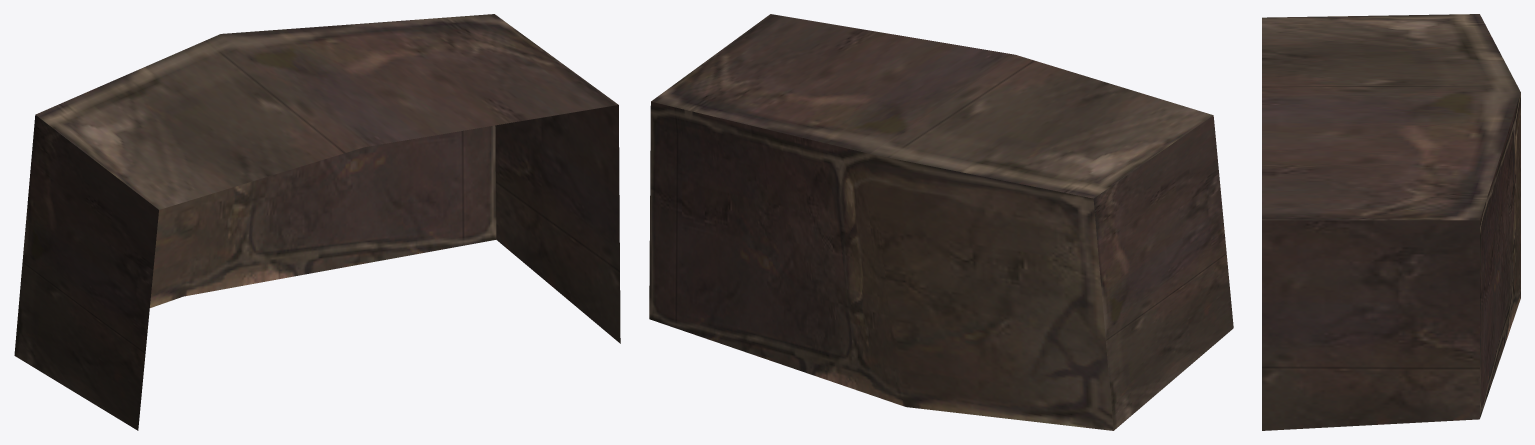
The model's file is wall_break_01.FBX.
The picture shows the model from 3 angles, left to right: view 1: azimuth 30°, elevation 25°; view 2: azimuth 150°, elevation 25°; view 3: azimuth 270°, elevation 25°; orthographic projection. The views are drawn at different scales.
Parts seen in each view (by area): view 1: wall_break_01; view 2: wall_break_01; view 3: wall_break_01.
Boxes of the visible parts, x1,y1,x2,y2 form: wall_break_01: [14, 14, 620, 430]; wall_break_01: [649, 14, 1233, 430]; wall_break_01: [1262, 14, 1520, 430].
Bounding box in the file's own units: 1.22 × 0.6381 × 0.6481.
1 material, 1 textured.
